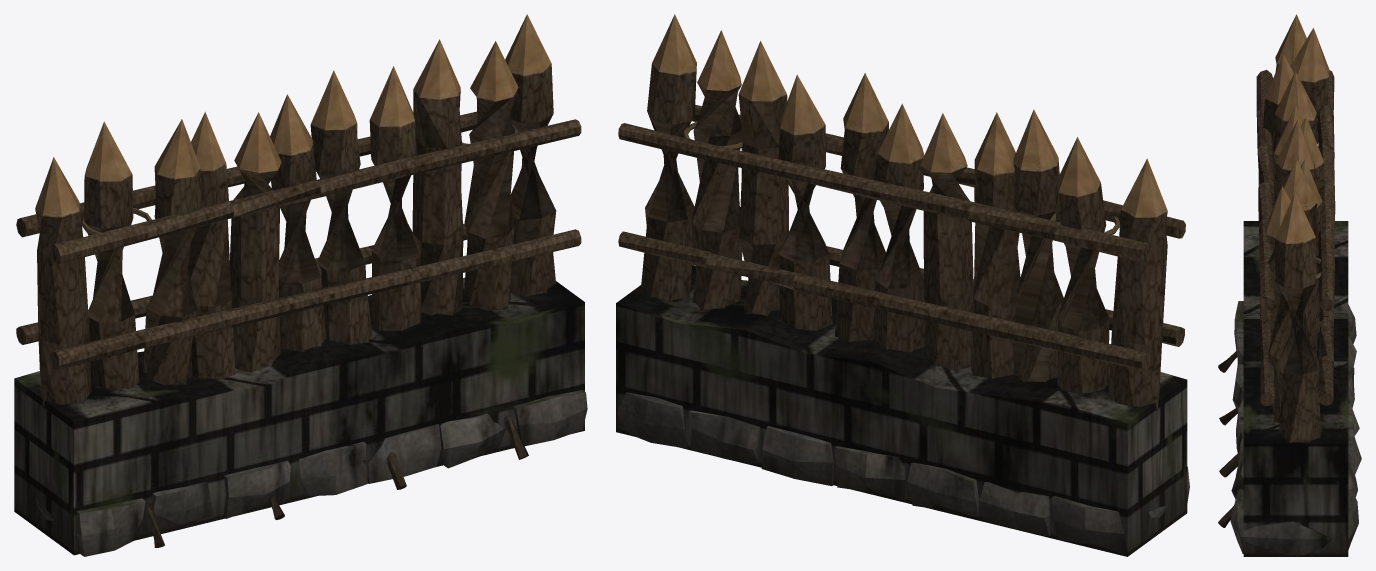
Rendered from ring_wall_a.glb.
3 renders of one model, left to right at view 1: azimuth 30°, elevation 25°; view 2: azimuth 150°, elevation 25°; view 3: azimuth 270°, elevation 25°, orthographic. The views are drawn at different scales.
Visible parts, largest first — view 1: ring_wall_a; view 2: ring_wall_a; view 3: ring_wall_a.
Part boxes in pixels (<box>): ring_wall_a: <box>14,14,587,556</box>; ring_wall_a: <box>616,14,1189,556</box>; ring_wall_a: <box>1218,14,1361,556</box>.
Size of the model in its own units: 4.3 by 3.19 by 1.17.
Materials: 1 (1 with a texture image).
